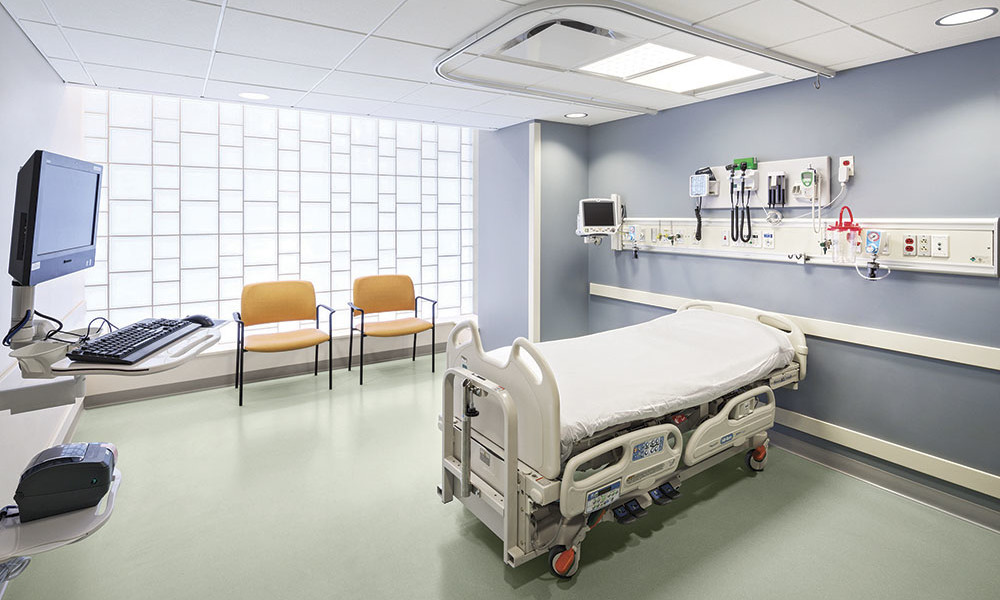hospital bed: (411, 303, 818, 485)
